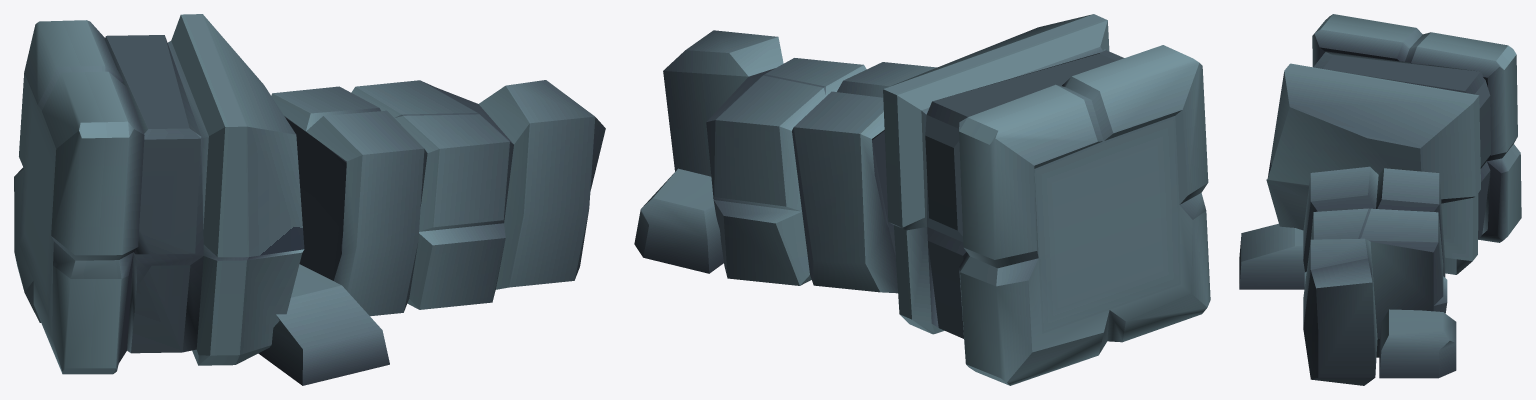
File: Modular_Dungeon_Pillar_Square_Broken_Top.fbx
3 views of the same model, side by side, from view 1: azimuth 30°, elevation 25°; view 2: azimuth 150°, elevation 25°; view 3: azimuth 270°, elevation 25° (orthographic). The views are drawn at different scales.
Visible parts, largest first — view 1: Pillar_Square_Broken_Top; view 2: Pillar_Square_Broken_Top; view 3: Pillar_Square_Broken_Top.
Boxes of the visible parts, x1,y1,x2,y2 form: Pillar_Square_Broken_Top: (14,14,605,385); Pillar_Square_Broken_Top: (634,14,1210,385); Pillar_Square_Broken_Top: (1239,14,1521,385).
Size of the model in its own units: 3.9 by 1.93 by 2.45.
Materials: 1 (1 with a texture image).
